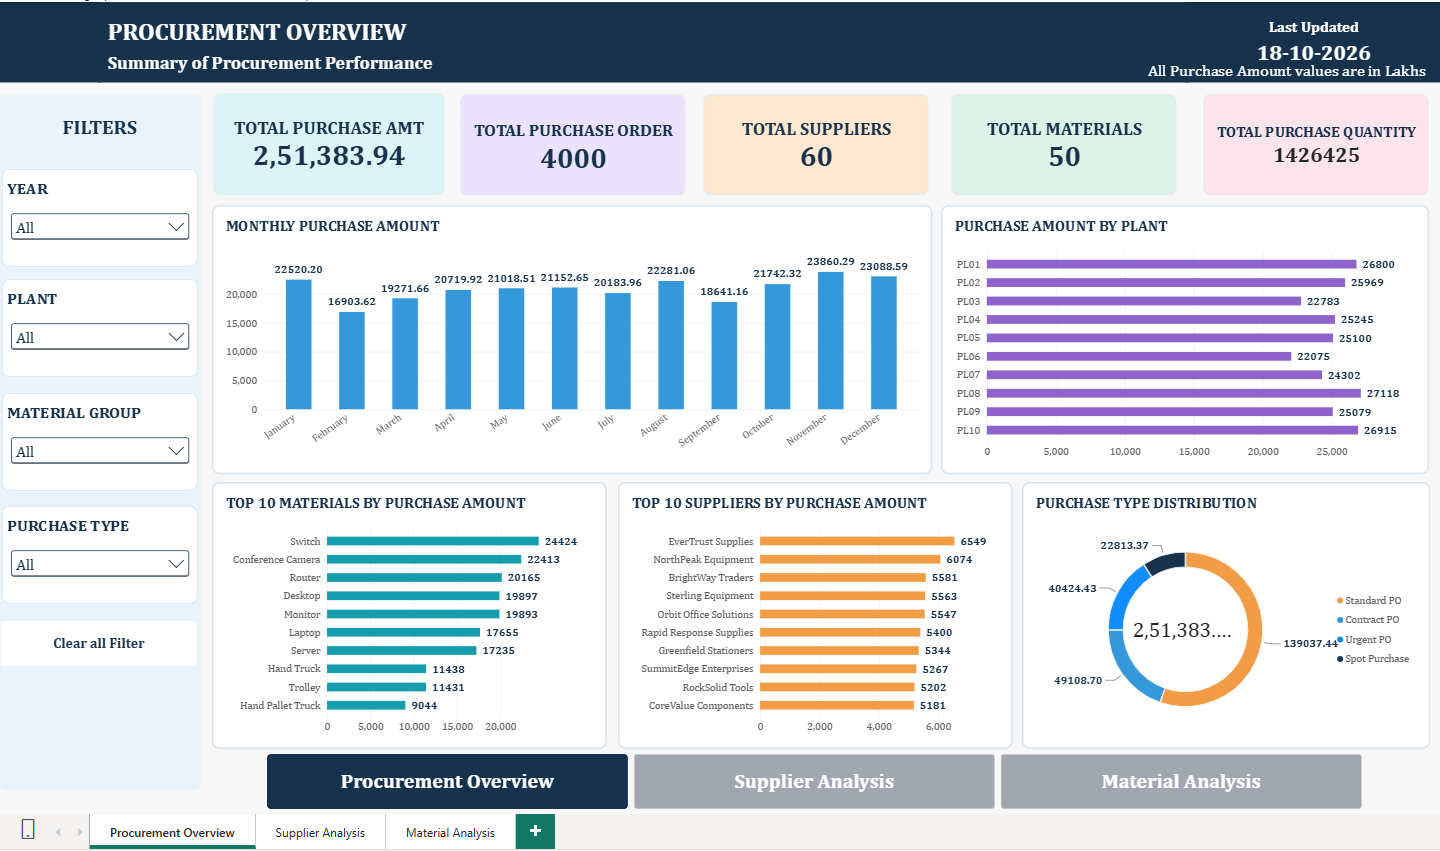

The dashboard page shown, as its layout file describes it:
{"tool":"powerbi","page":{"name":"Procurement Overview","canvas":[1920,1080],"ordinal":0},"visuals":[{"type":"textbox","title":"PROCUREMENT OVERVIEW","box":[123.9,0,1466.7,106.7],"z":0},{"type":"shape","box":[0,122.4,269.1,926.4],"z":0,"group":"g1"},{"type":"cardVisual","fields":{"Data":["Data.Last Updated"]},"box":[1578,0,342,106.7],"z":1000},{"type":"textbox","box":[3.9,144.3,259.9,64.2],"z":1000,"group":"g1"},{"type":"textbox","box":[0,0,134.9,106.7],"z":2000},{"type":"slicer","title":"YEAR","fields":{"Values":["Dim_Calender.Year"]},"box":[3.9,221.6,259.6,130],"z":2000,"group":"g1"},{"type":"group","id":"g1","title":"Group 1","box":[0,122.4,269.1,926.4],"z":3000},{"type":"slicer","title":"PLANT","fields":{"Values":["Dim_Plant.Plant"]},"box":[3.9,369,259.9,129.8],"z":3000,"group":"g1"},{"type":"actionButton","box":[3.1,823.6,260.4,59.6],"z":3500,"group":"g1"},{"type":"cardVisual","title":"TOT","fields":{"Data":["Count(Data.Purchase Order)"]},"box":[613.3,122.4,300,134.9],"z":4000},{"type":"slicer","title":"MATERIAL GROUP","fields":{"Values":["Dim_Material.Material Group"]},"box":[3.9,520.7,259.6,130],"z":4000,"group":"g1"},{"type":"cardVisual","fields":{"Data":["Data.Total Suppliers"]},"box":[936.5,122.4,300,134.9],"z":5000},{"type":"slicer","title":"PURCHASE TYPE","fields":{"Values":["Data.Purchase Type"]},"box":[3.9,671,259.6,130],"z":5000,"group":"g1"},{"type":"cardVisual","fields":{"Data":["Count(Dim_Material.Material ID)"]},"box":[1265.9,122.4,300,134.9],"z":6000},{"type":"clusteredColumnChart","title":"MONTHLY PURCHASE AMOUNT","fields":{"Y":["Data.Total Purchase Amount (Lakhs)"],"Category":["Dim_Calender.Month"]},"box":[283.9,269.8,958.4,357.6],"z":7000},{"type":"clusteredBarChart","title":"PURCHASE AMOUNT BY PLANT","fields":{"Category":["Dim_Plant.Plant"],"Y":["Data.Total Purchase Amount (Lakhs)"]},"box":[1253.3,269.8,649.4,357.6],"z":8000},{"type":"clusteredBarChart","title":"TOP 10 MATERIALS BY PURCHASE AMOUNT","fields":{"Category":["Dim_Material.Material Description"],"Y":["Data.Total Purchase Amount (Lakhs)"]},"box":[283.9,638.4,525.5,355],"z":9000},{"type":"clusteredBarChart","title":"TOP 10 SUPPLIERS BY PURCHASE AMOUNT","fields":{"Category":["Dim_Supplier.Supplier Name"],"Y":["Data.Total Purchase Amount (Lakhs)"]},"box":[823.5,638.4,525.5,355],"z":10000},{"type":"donutChart","title":"PURCHASE TYPE DISTRIBUTION","fields":{"Category":["Data.Purchase Type"],"Y":["Data.Total Purchase Amount (Lakhs)"]},"box":[1360,638.4,542.7,355],"z":11000},{"type":"cardVisual","fields":{"Data":["Data.Total Purchase Quantity"]},"box":[1601.6,122.4,300,134.9],"z":12000},{"type":"pageNavigator","box":[356.7,1000,1458.3,73.3],"z":13000},{"type":"cardVisual","fields":{"Data":["Data.Total Purchase Amount (Lakhs)"]},"box":[284.5,121.1,307.8,135.7],"z":14000},{"type":"textbox","box":[0,926,269,150],"z":15000},{"type":"textbox","box":[1528.1,78.7,391.9,44.1],"z":15001}]}

Visuals, with their boxes on the page's 1920x1080 design canvas (x1, y1, x2, y2). These are canvas units, not pixel positions in the 1440x851 screenshot, which may show the page scaled, cropped or inside an application window:
"PROCUREMENT OVERVIEW" textbox: {"left": 124, "top": 0, "right": 1591, "bottom": 107}
shape: {"left": 0, "top": 122, "right": 269, "bottom": 1049}
cardVisual - Data.Last Updated: {"left": 1578, "top": 0, "right": 1920, "bottom": 107}
textbox: {"left": 4, "top": 144, "right": 264, "bottom": 208}
textbox: {"left": 0, "top": 0, "right": 135, "bottom": 107}
"YEAR" slicer: {"left": 4, "top": 222, "right": 264, "bottom": 352}
"Group 1" group: {"left": 0, "top": 122, "right": 269, "bottom": 1049}
"PLANT" slicer: {"left": 4, "top": 369, "right": 264, "bottom": 499}
actionButton: {"left": 3, "top": 824, "right": 264, "bottom": 883}
"TOT" cardVisual: {"left": 613, "top": 122, "right": 913, "bottom": 257}
"MATERIAL GROUP" slicer: {"left": 4, "top": 521, "right": 264, "bottom": 651}
cardVisual - Data.Total Suppliers: {"left": 936, "top": 122, "right": 1236, "bottom": 257}
"PURCHASE TYPE" slicer: {"left": 4, "top": 671, "right": 264, "bottom": 801}
cardVisual - Count(Dim_Material.Material ID): {"left": 1266, "top": 122, "right": 1566, "bottom": 257}
"MONTHLY PURCHASE AMOUNT" clusteredColumnChart: {"left": 284, "top": 270, "right": 1242, "bottom": 627}
"PURCHASE AMOUNT BY PLANT" clusteredBarChart: {"left": 1253, "top": 270, "right": 1903, "bottom": 627}
"TOP 10 MATERIALS BY PURCHASE AMOUNT" clusteredBarChart: {"left": 284, "top": 638, "right": 809, "bottom": 993}
"TOP 10 SUPPLIERS BY PURCHASE AMOUNT" clusteredBarChart: {"left": 824, "top": 638, "right": 1349, "bottom": 993}
"PURCHASE TYPE DISTRIBUTION" donutChart: {"left": 1360, "top": 638, "right": 1903, "bottom": 993}
cardVisual - Data.Total Purchase Quantity: {"left": 1602, "top": 122, "right": 1902, "bottom": 257}
pageNavigator: {"left": 357, "top": 1000, "right": 1815, "bottom": 1073}
cardVisual - Data.Total Purchase Amount (Lakhs): {"left": 284, "top": 121, "right": 592, "bottom": 257}
textbox: {"left": 0, "top": 926, "right": 269, "bottom": 1076}
textbox: {"left": 1528, "top": 79, "right": 1920, "bottom": 123}
